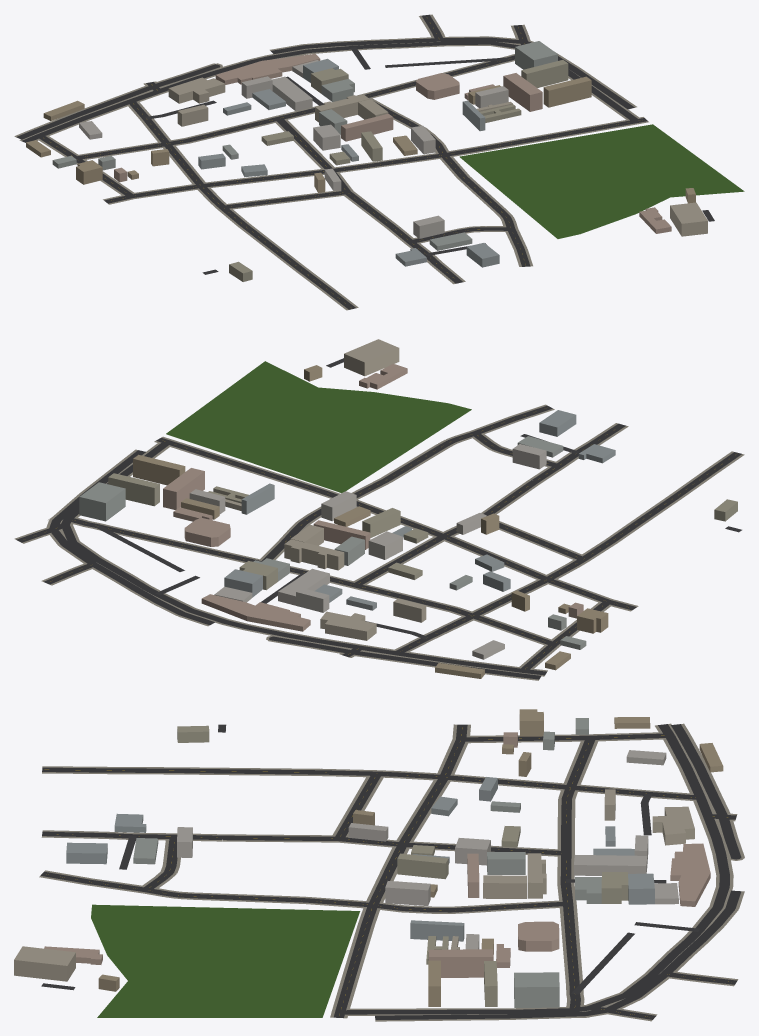
The picture shows the model from 3 angles, top to bottom: view 1: azimuth 30°, elevation 25°; view 2: azimuth 150°, elevation 25°; view 3: azimuth 270°, elevation 25°; orthographic projection. The views are drawn at different scales.
Visible parts, largest first — view 1: tile_1_-1; view 2: tile_1_-1; view 3: tile_1_-1.
Part boxes in pixels (left/top/right/bottom): tile_1_-1: left=14, top=14, right=744, bottom=310; tile_1_-1: left=14, top=339, right=744, bottom=680; tile_1_-1: left=14, top=709, right=744, bottom=1021.
Bounding box in the file's own units: 408 × 13.2 × 421.
